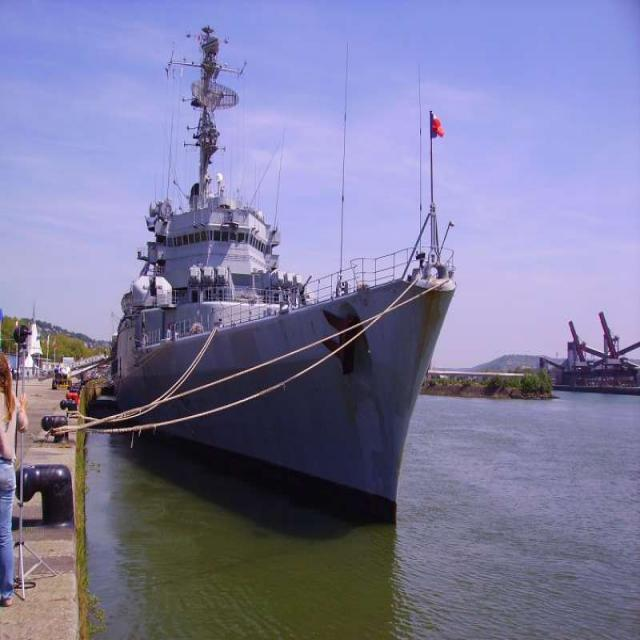Portanaves: (88, 28, 464, 534)
